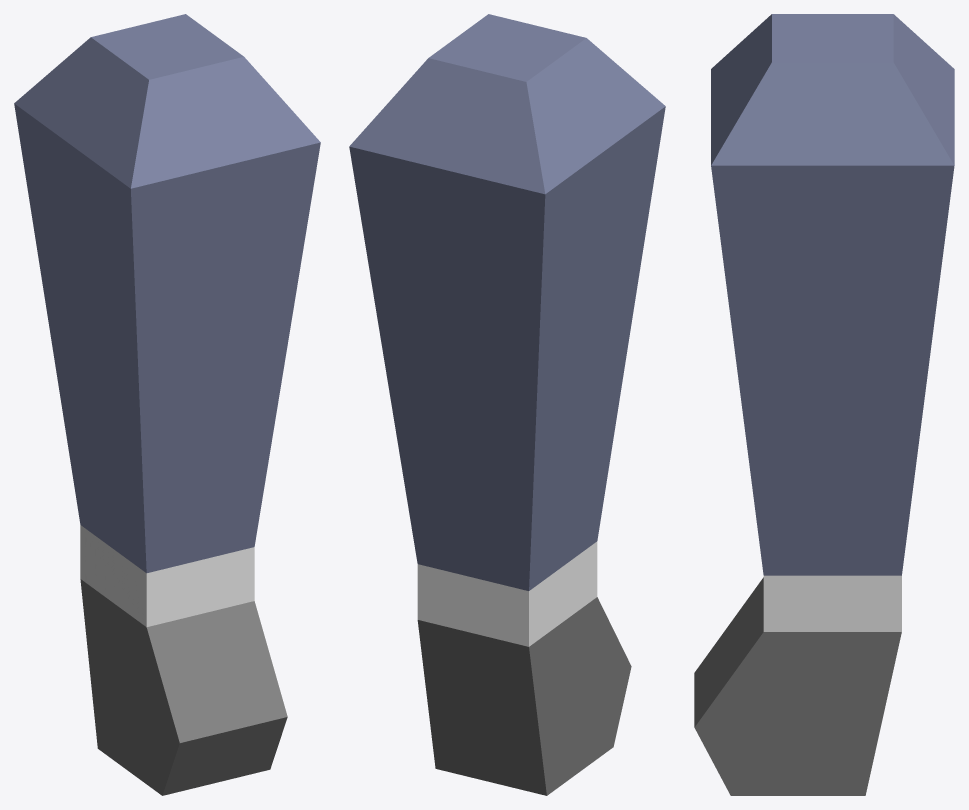
Rendered from Bandit3LowerArm.fbx.
3 renders of one model, left to right at view 1: azimuth 30°, elevation 25°; view 2: azimuth 150°, elevation 25°; view 3: azimuth 270°, elevation 25°, orthographic. The views are drawn at different scales.
Visible parts, largest first — view 1: Bandit3LowerArm; view 2: Bandit3LowerArm; view 3: Bandit3LowerArm.
Part boxes in pixels (x1=…): Bandit3LowerArm: x1=14, y1=14, x2=320, y2=795; Bandit3LowerArm: x1=349, y1=14, x2=665, y2=795; Bandit3LowerArm: x1=694, y1=14, x2=954, y2=795.
Bounding box in the file's own units: 0.1568 × 0.552 × 0.1781.
